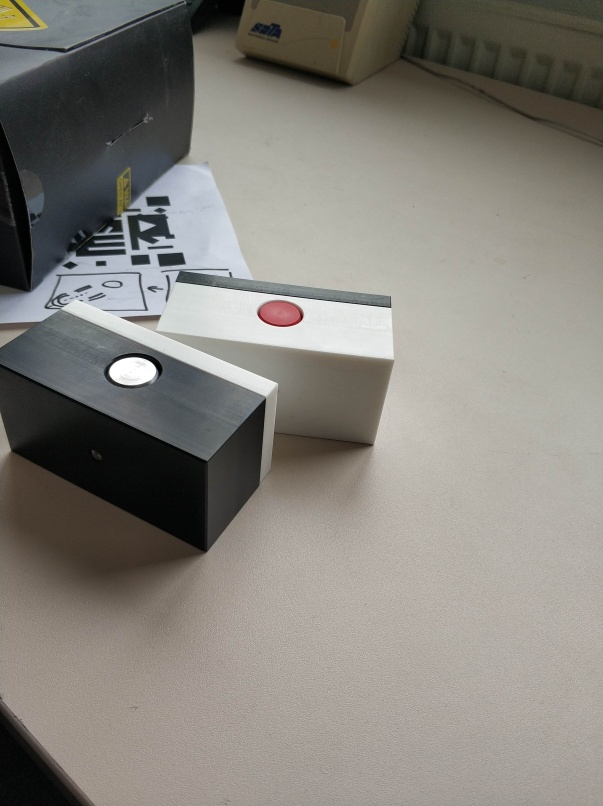black+white+red: (155, 265, 401, 446)
white+black+silver: (1, 294, 281, 557)
